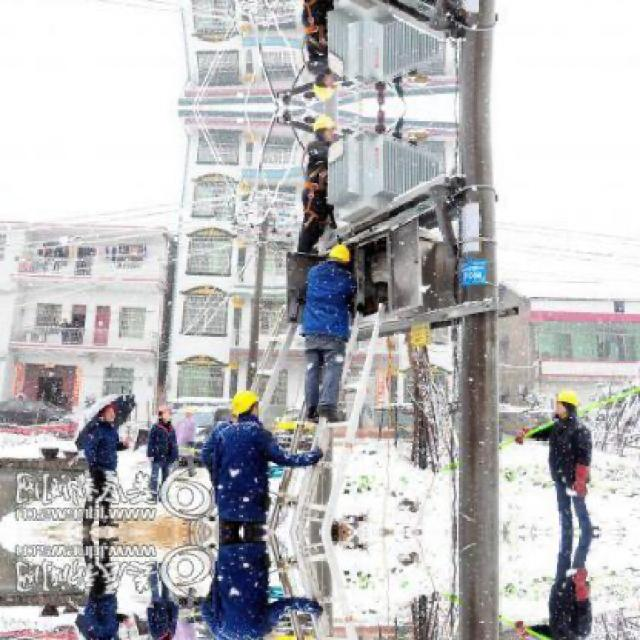helmet: (229, 386, 262, 423), (551, 385, 580, 417), (326, 240, 354, 269), (311, 112, 340, 140), (311, 72, 340, 100), (157, 402, 175, 420)
